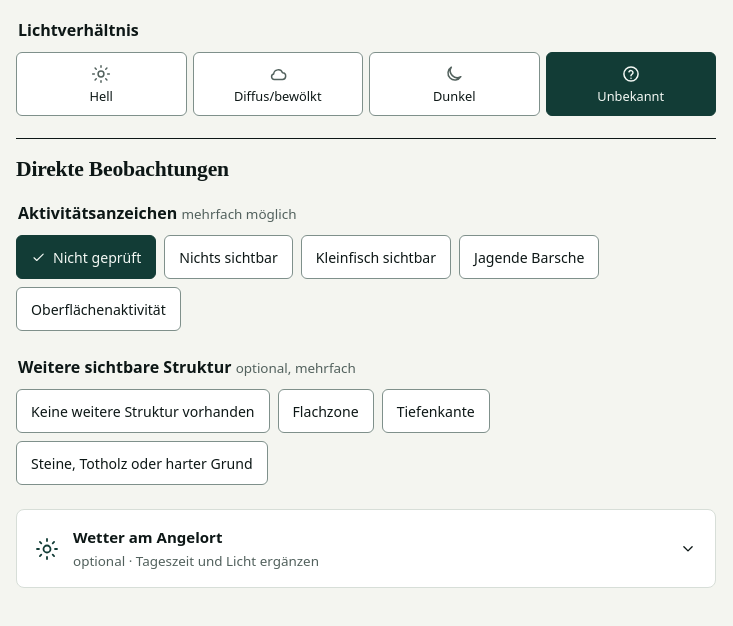
Wettervorschläge › erhält Angaben bei Netzfehlern und ermöglicht erneuten Abruf
This screenshot has width=733, height=626.
(page scrolled)
Click the button "Wetter am Angelort optional · Tageszeit und Licht ergänzen". click: (148, 537)
box: [17, 510, 715, 587]
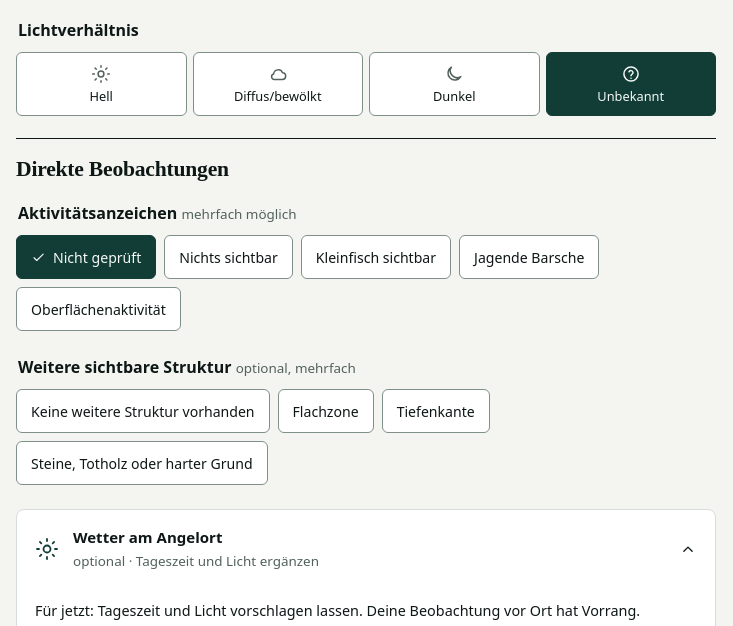
Click the button "Hell". click: (101, 84)
box: [16, 52, 186, 116]
(page scrolled)
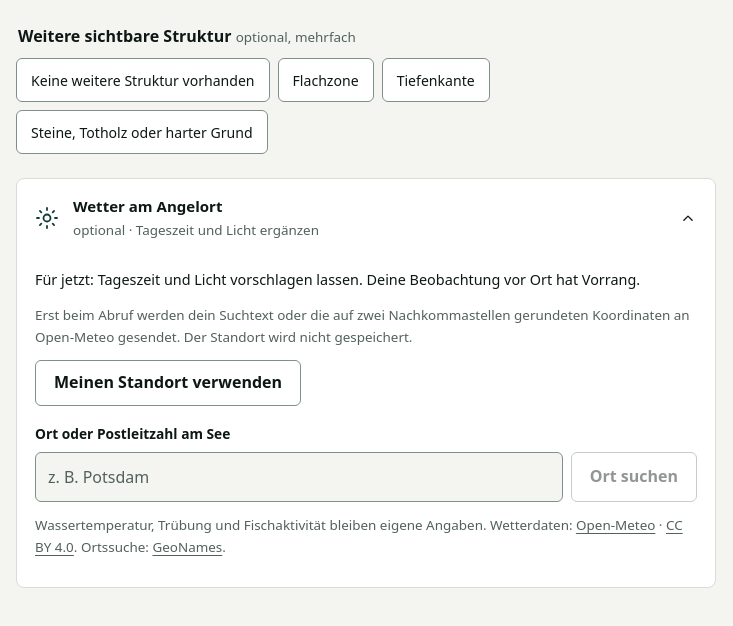
Type "Berlin" into the field labelled "Ort oder Postleitzahl am See". click: (299, 477)
box: [35, 452, 563, 502]
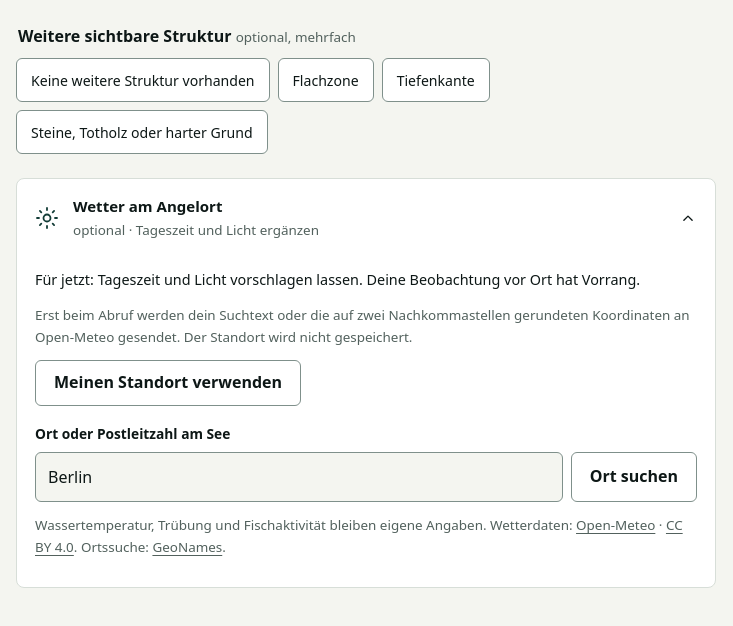
Click the button "Ort suchen". click: (634, 477)
box: [571, 452, 697, 502]
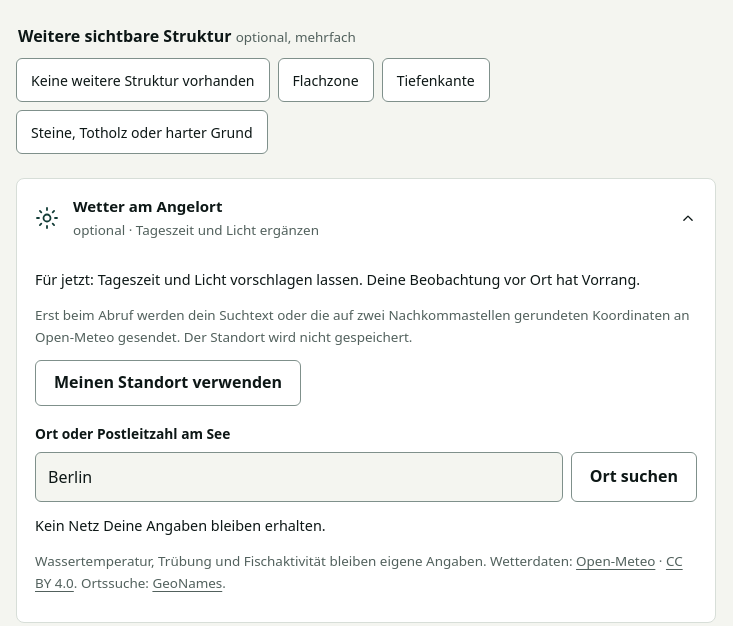
Expected: the button "Ort suchen" is enabled, [571, 452, 697, 502]
Expected: the message shows "Deine Angaben bleiben erhalten", [99, 516, 326, 535]
